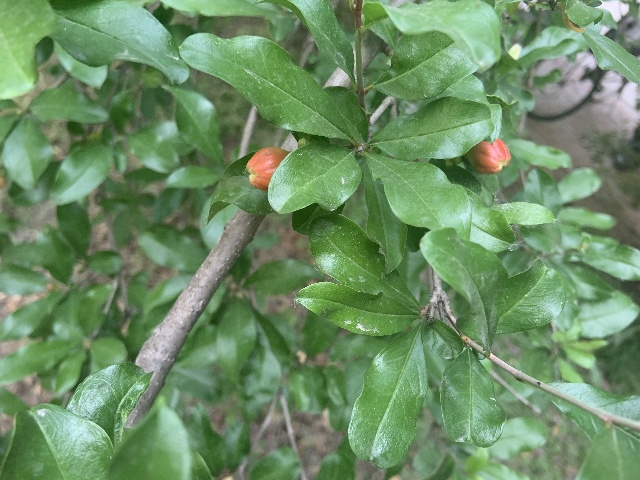bud: (246, 146, 290, 191), (467, 138, 510, 174)
